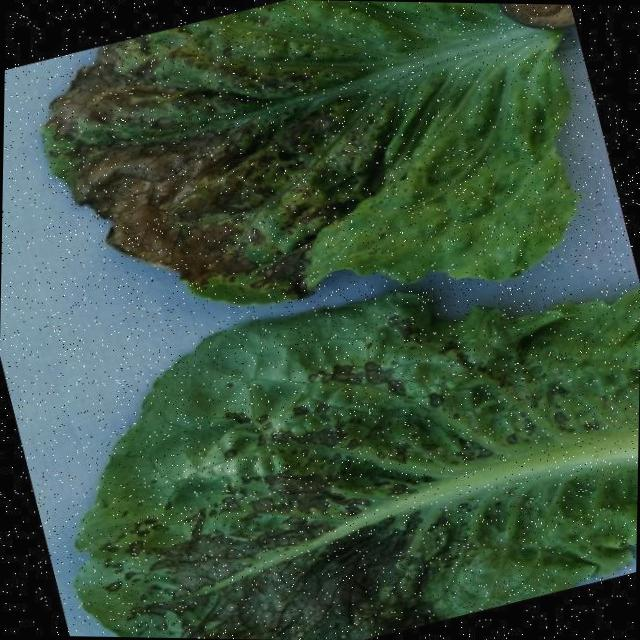Bacterial: (128, 301, 639, 640), (127, 0, 468, 279)
